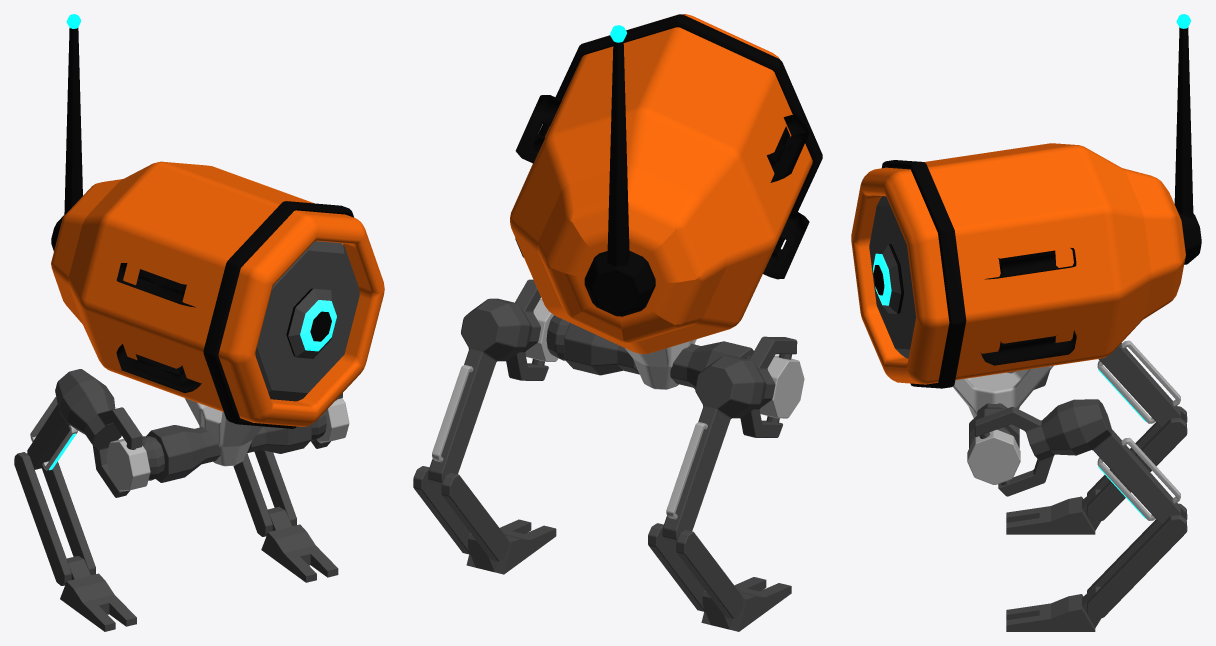
The model's file is second_model.glb.
3 renders of one model, left to right at view 1: azimuth 30°, elevation 25°; view 2: azimuth 150°, elevation 25°; view 3: azimuth 270°, elevation 25°, orthographic. The views are drawn at different scales.
Visible parts, largest first — view 1: Cylinder.001_8, Plane.018_22, Cylinder.005_5, Plane.012_16, Plane.020_23, Cylinder.003_3, Cylinder.004_4, Plane.015_19, Plane.013_17, Cylinder_1, Plane.014_18, Plane.017_21 (+7 smaller); view 2: Cylinder.001_8, Plane.018_22, Plane.011_15, Cylinder.005_5, Cylinder.003_3, Cylinder.002_2, Plane.002_6, Plane.006_11, Plane.013_17, Plane.007_12, Plane.020_23, Plane.012_16 (+9 smaller); view 3: Cylinder.001_8, Plane.011_15, Cylinder.005_5, Plane.001_0, Cylinder.003_3, Plane.020_23, Plane.012_16, Cylinder_1, Plane.018_22, Plane.009_14, Plane.014_18, Plane.003_7 (+8 smaller).
Part boxes in pixels (x1,y1,x2,y2): Cylinder.001_8: (51,161,384,426); Plane.018_22: (27,369,142,497); Cylinder.005_5: (203,201,353,428); Plane.012_16: (261,507,338,582); Plane.020_23: (60,556,136,631); Cylinder.003_3: (64,14,82,215); Cylinder.004_4: (286,288,338,358); Plane.015_19: (146,425,220,482); Plane.013_17: (14,452,71,585); Cylinder_1: (184,398,262,466); Plane.014_18: (42,461,95,575); Plane.017_21: (106,438,150,490); Cylinder.001_8: (510,14,812,354); Plane.018_22: (662,336,797,542); Plane.011_15: (428,279,548,484); Cylinder.005_5: (538,14,822,248); Cylinder.003_3: (607,25,629,266); Cylinder.002_2: (584,250,655,316); Plane.002_6: (515,95,809,182); Plane.006_11: (441,472,508,561); Plane.013_17: (676,530,743,618); Plane.007_12: (564,323,639,375); Plane.020_23: (701,577,791,631); Plane.012_16: (466,519,556,574); Cylinder.001_8: (851,143,1185,384); Plane.011_15: (974,399,1181,524); Cylinder.005_5: (882,160,966,388); Plane.001_0: (1087,515,1187,618); Cylinder.003_3: (1174,14,1193,217); Plane.020_23: (1006,489,1101,534); Plane.012_16: (1006,586,1101,631); Cylinder_1: (952,365,1053,418); Plane.018_22: (1034,343,1181,427); Plane.009_14: (967,429,1020,484); Plane.014_18: (1087,418,1187,521); Plane.003_7: (980,330,1076,365).
Bounding box in the file's own units: 1.89 × 3.9 × 2.33.
